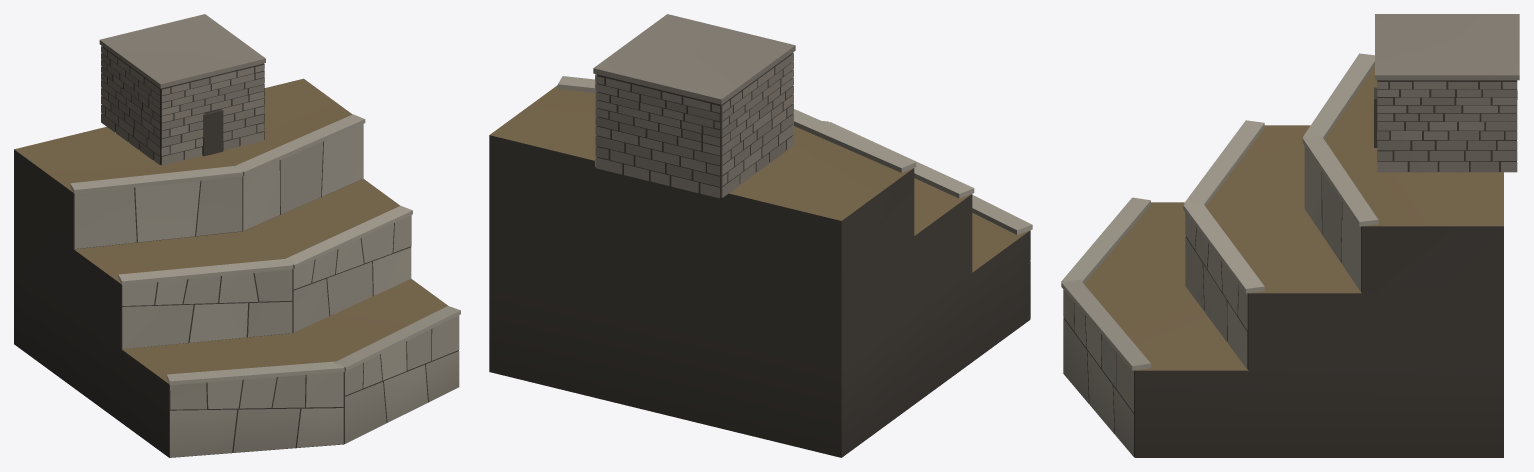
File: cusco_sacsay_square_lod1.glb
The picture shows the model from 3 angles, left to right: view 1: azimuth 30°, elevation 25°; view 2: azimuth 150°, elevation 25°; view 3: azimuth 270°, elevation 25°; orthographic projection. The views are drawn at different scales.
Parts seen in each view (by area): view 1: GEO-Arch_cusco_sacsay_square_LOD1; view 2: GEO-Arch_cusco_sacsay_square_LOD1; view 3: GEO-Arch_cusco_sacsay_square_LOD1.
Boxes of the visible parts, x1=… form: GEO-Arch_cusco_sacsay_square_LOD1: x1=14, y1=14, x2=460, y2=457; GEO-Arch_cusco_sacsay_square_LOD1: x1=489, y1=14, x2=1032, y2=457; GEO-Arch_cusco_sacsay_square_LOD1: x1=1061, y1=14, x2=1519, y2=457.
Bounding box in the file's own units: 14.07 × 12.8 × 16.14.
